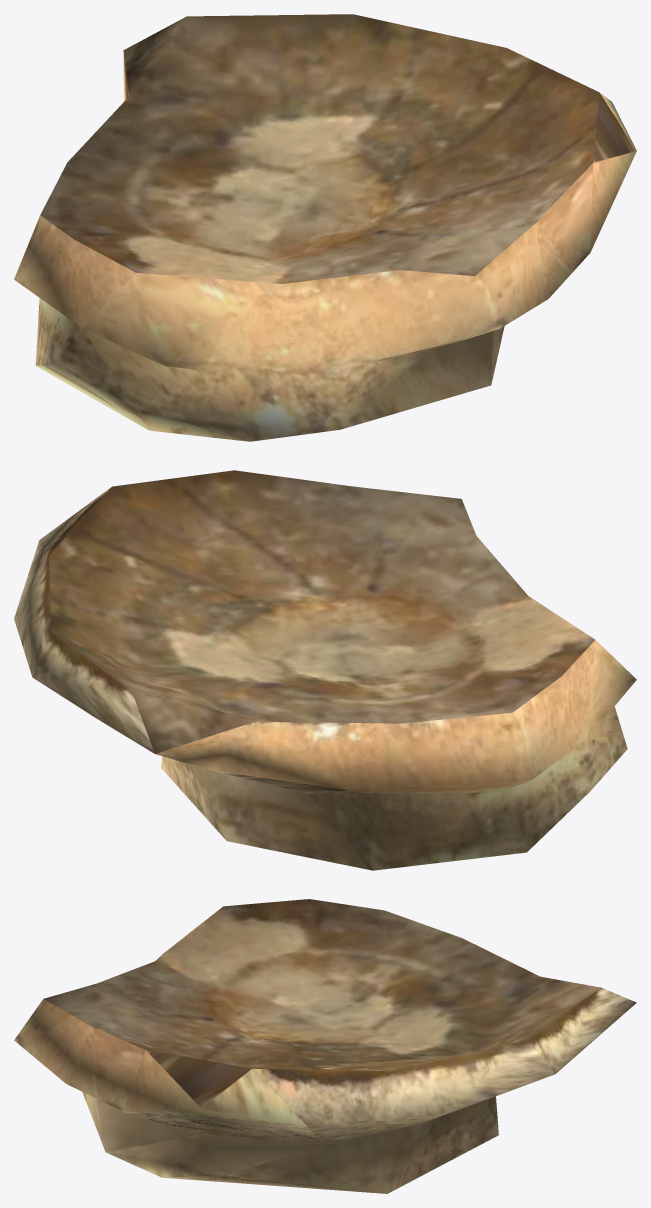
File: GS_MISC_SKORUPA_02_GALI.glb
3 views of the same model, one above another, from view 1: azimuth 30°, elevation 25°; view 2: azimuth 150°, elevation 25°; view 3: azimuth 270°, elevation 25° (orthographic). The views are drawn at different scales.
Visible parts, largest first — view 1: Mesh; view 2: Mesh; view 3: Mesh.
Boxes of the visible parts, x1=… form: Mesh: x1=14, y1=14, x2=636, y2=441; Mesh: x1=14, y1=470, x2=636, y2=870; Mesh: x1=14, y1=899, x2=636, y2=1193.
Size of the model in its own units: 0.822 by 0.2889 by 0.8871.
1 material, 1 textured.
